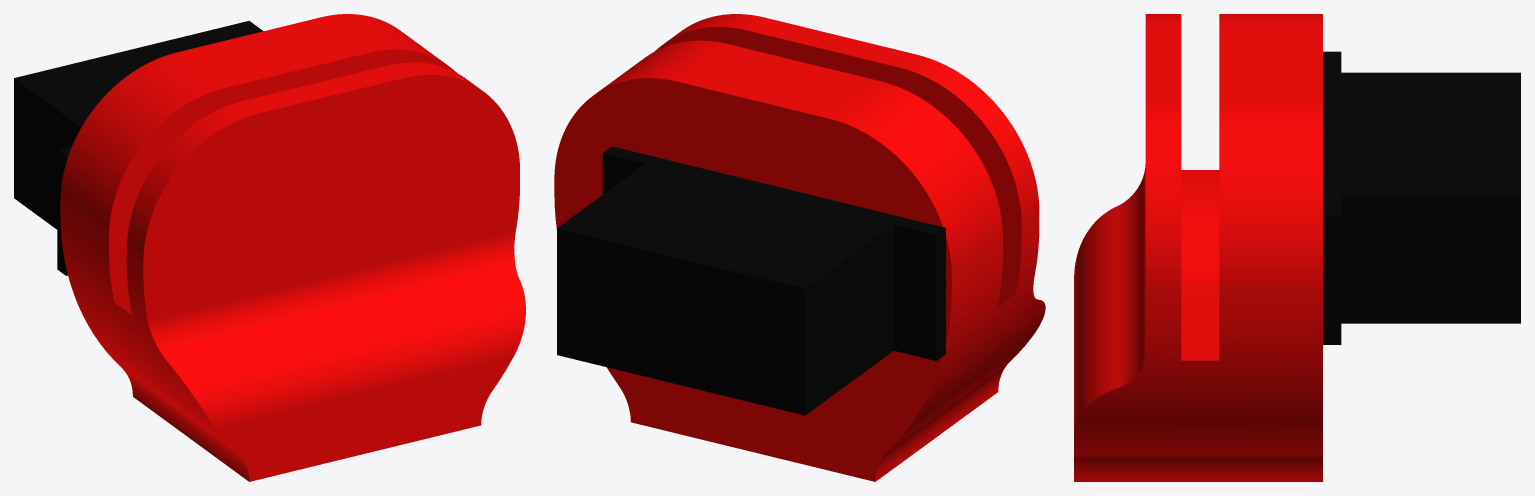
The model's file is GripperBase.dae.
The picture shows the model from 3 angles, left to right: view 1: azimuth 30°, elevation 25°; view 2: azimuth 150°, elevation 25°; view 3: azimuth 270°, elevation 25°; orthographic projection. The views are drawn at different scales.
Visible parts, largest first — view 1: node1, node0; view 2: node1, node0; view 3: node1, node0.
Part boxes in pixels (x1,y1,x2,y2): node1: (60, 14, 525, 481); node0: (14, 21, 263, 275); node1: (554, 14, 1045, 481); node0: (557, 146, 945, 415); node1: (1074, 14, 1322, 481); node0: (1323, 51, 1520, 344).
Bounding box in the file's own units: 65 × 62.5 × 55.
